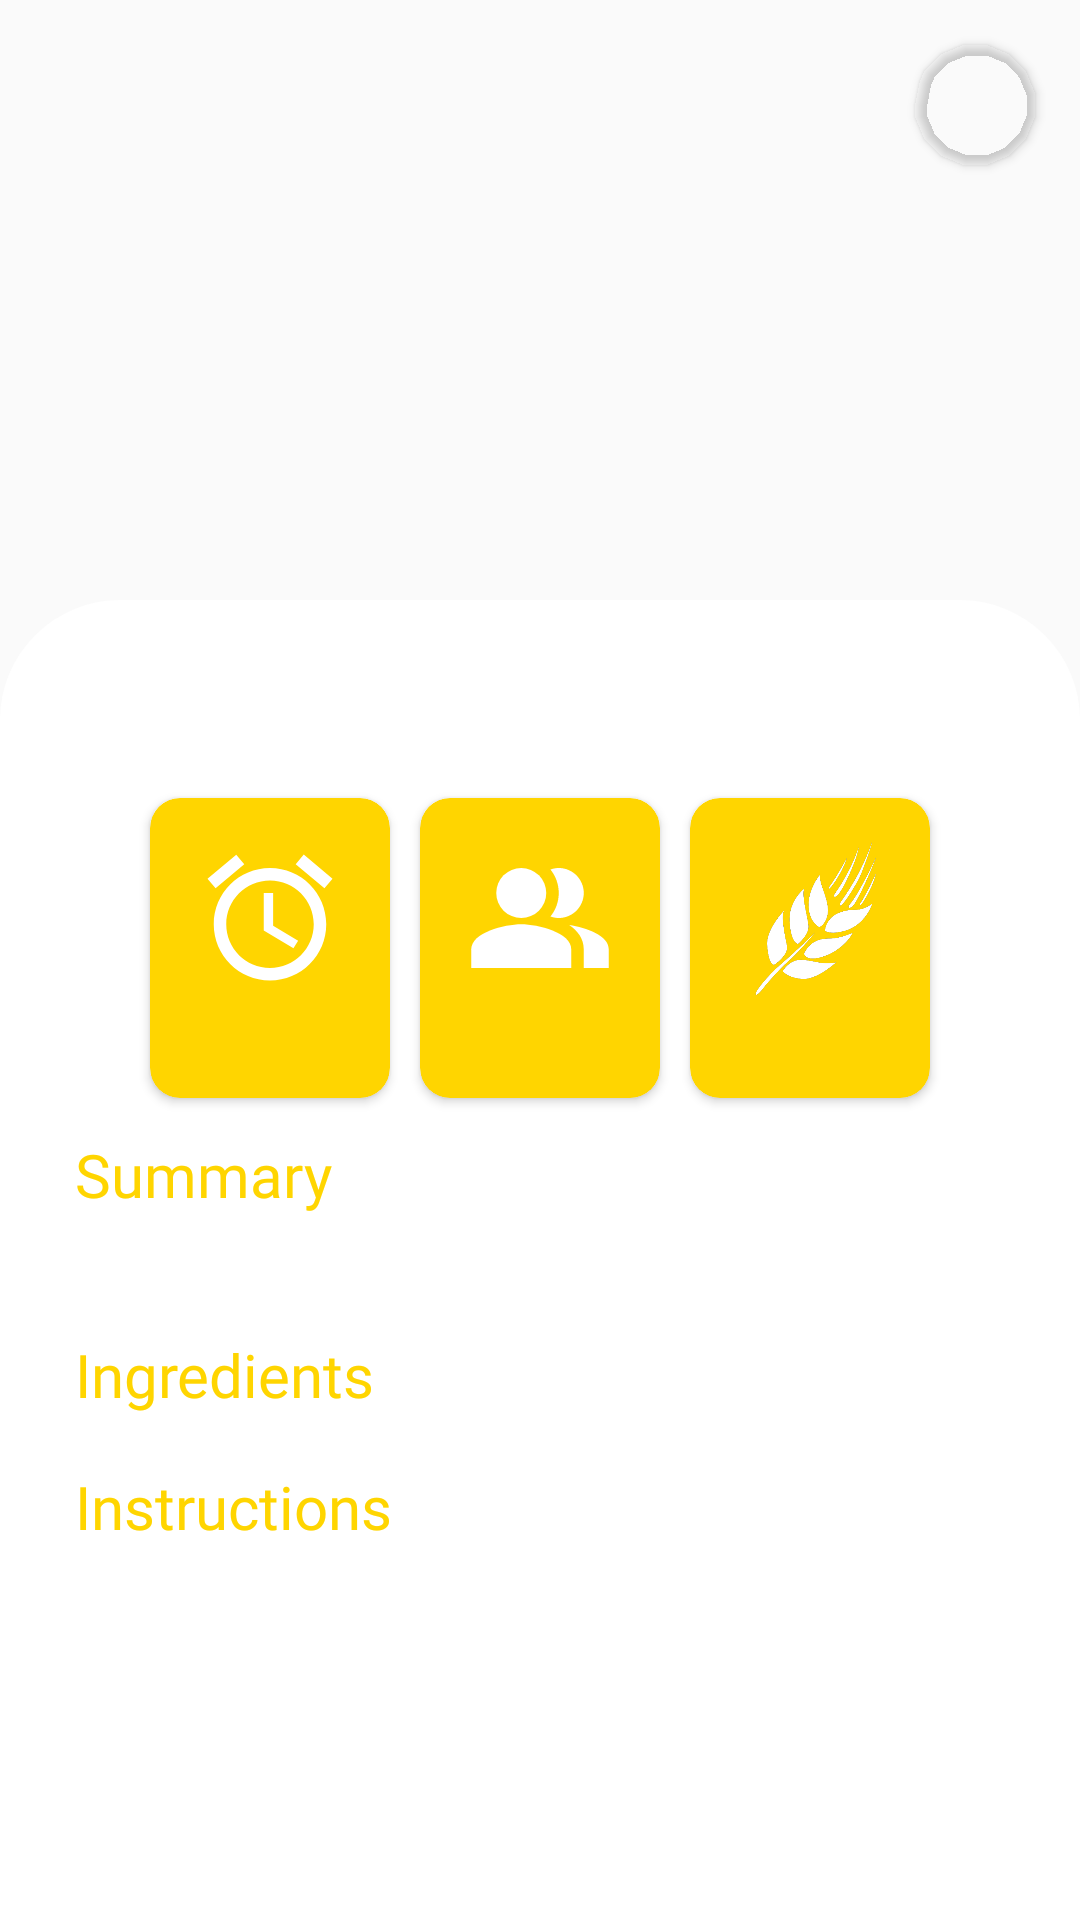

Where icons sit on this 1080*1920 app screen, as [x1,y1,x2,y2]:
details servings: [471,868,609,968]
prepare time: [207,854,333,981]
wheat: [755,843,876,995]
